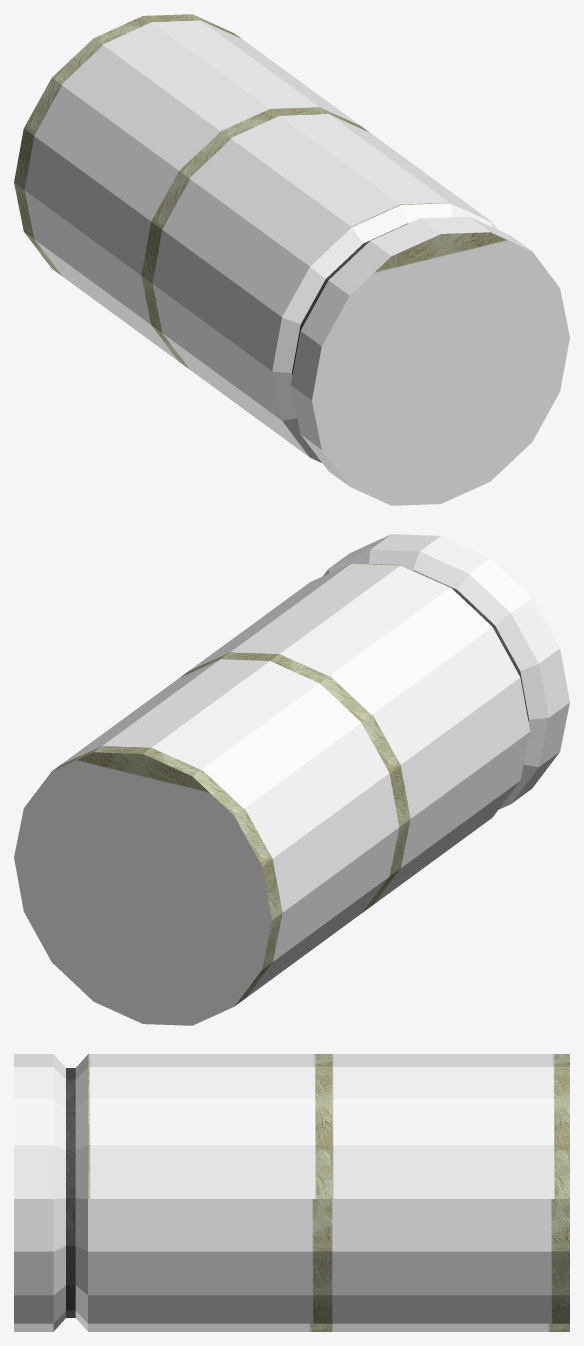
The picture shows the model from 3 angles, top to bottom: view 1: azimuth 30°, elevation 25°; view 2: azimuth 150°, elevation 25°; view 3: azimuth 270°, elevation 25°; orthographic projection. The views are drawn at different scales.
Parts seen in each view (by area): view 1: Cube_Cube_None_QuartoPieces.png; view 2: Cube_Cube_None_QuartoPieces.png; view 3: Cube_Cube_None_QuartoPieces.png.
Part boxes in pixels (x1,y1,x2,y2): Cube_Cube_None_QuartoPieces.png: (14,14,569,505); Cube_Cube_None_QuartoPieces.png: (14,534,569,1025); Cube_Cube_None_QuartoPieces.png: (14,1054,569,1331).
Bounding box in the file's own units: 2 × 2 × 4.
